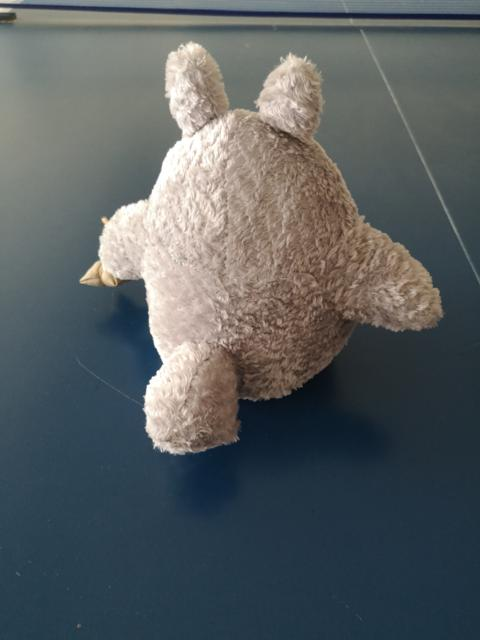totoro: (72, 37, 448, 459)
